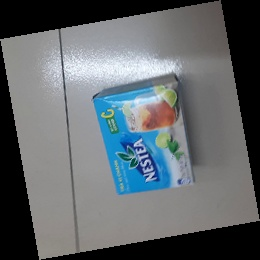Nestea: (91, 73, 196, 198)
